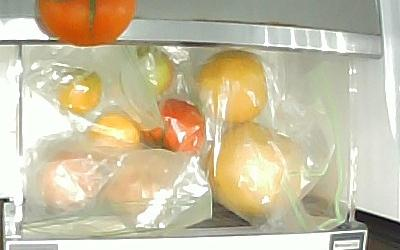pear_vinyl: (201, 120, 302, 216), (192, 48, 269, 125)
tangerine_vinyl: (54, 65, 102, 116), (85, 111, 140, 146)
tomato_vinyl: (140, 97, 206, 153), (133, 45, 174, 96)
